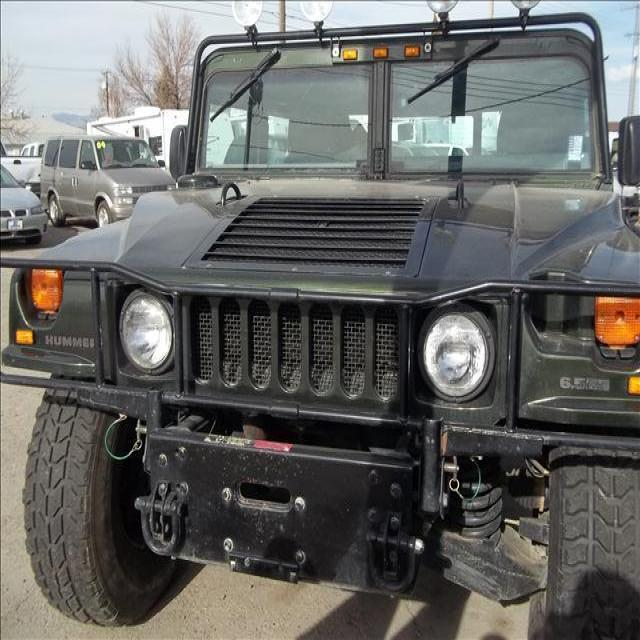Jeep: (22, 1, 635, 622)
